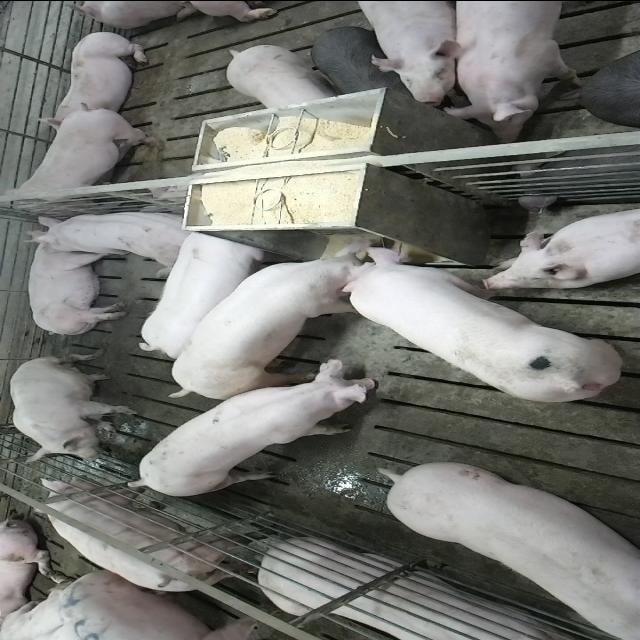Feeding: (336, 239, 624, 405), (167, 228, 387, 396)
Lateral_lying: (22, 232, 130, 338)
Sitting: (8, 354, 138, 464)
Standing: (382, 465, 640, 640), (126, 362, 386, 500), (40, 472, 266, 590), (444, 1, 596, 137), (136, 228, 276, 360), (5, 102, 167, 208), (353, 0, 467, 102), (308, 24, 411, 100), (226, 44, 338, 110), (574, 42, 638, 125)
Sternal_lying: (253, 539, 611, 640), (481, 203, 640, 289), (40, 28, 154, 122), (32, 206, 195, 264)
